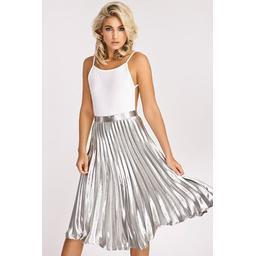Tshirt: (88, 51, 140, 116)
skirt: (66, 110, 212, 250)
